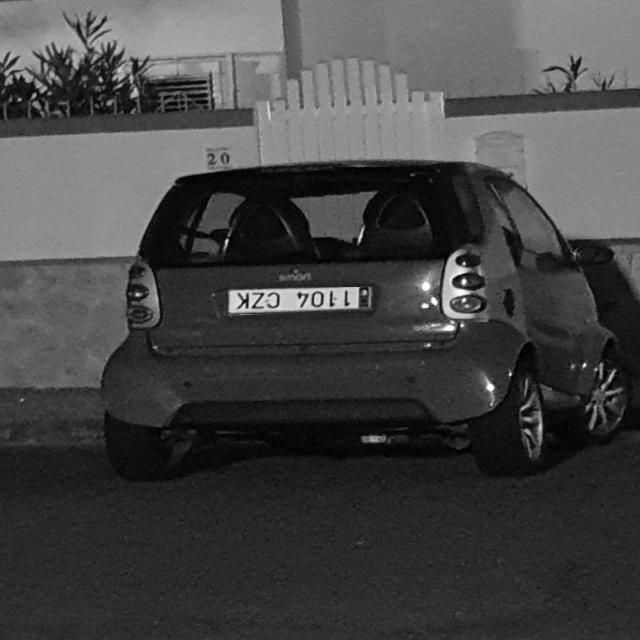License-Plate: (225, 286, 373, 314)
